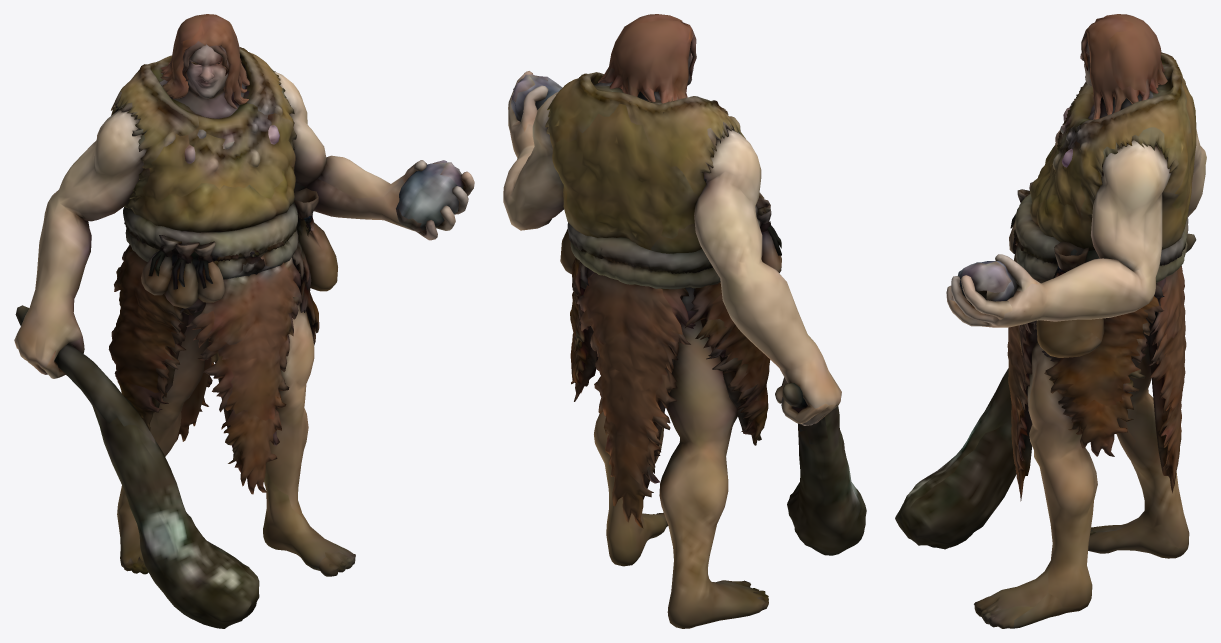
Rendered from MZ4250 - Hill Giant Avalancher_2025.glb.
3 views of the same model, side by side, from view 1: azimuth 30°, elevation 25°; view 2: azimuth 150°, elevation 25°; view 3: azimuth 270°, elevation 25° (orthographic). The views are drawn at different scales.
Visible parts, largest first — view 1: Hill Giant Avalancher.001; view 2: Hill Giant Avalancher.001; view 3: Hill Giant Avalancher.001.
Boxes of the visible parts, bbox=[...] form: Hill Giant Avalancher.001: bbox=[14, 14, 474, 628]; Hill Giant Avalancher.001: bbox=[503, 14, 866, 628]; Hill Giant Avalancher.001: bbox=[895, 14, 1206, 628].
Size of the model in its own units: 213 by 288 by 144.
1 material, 1 textured.
